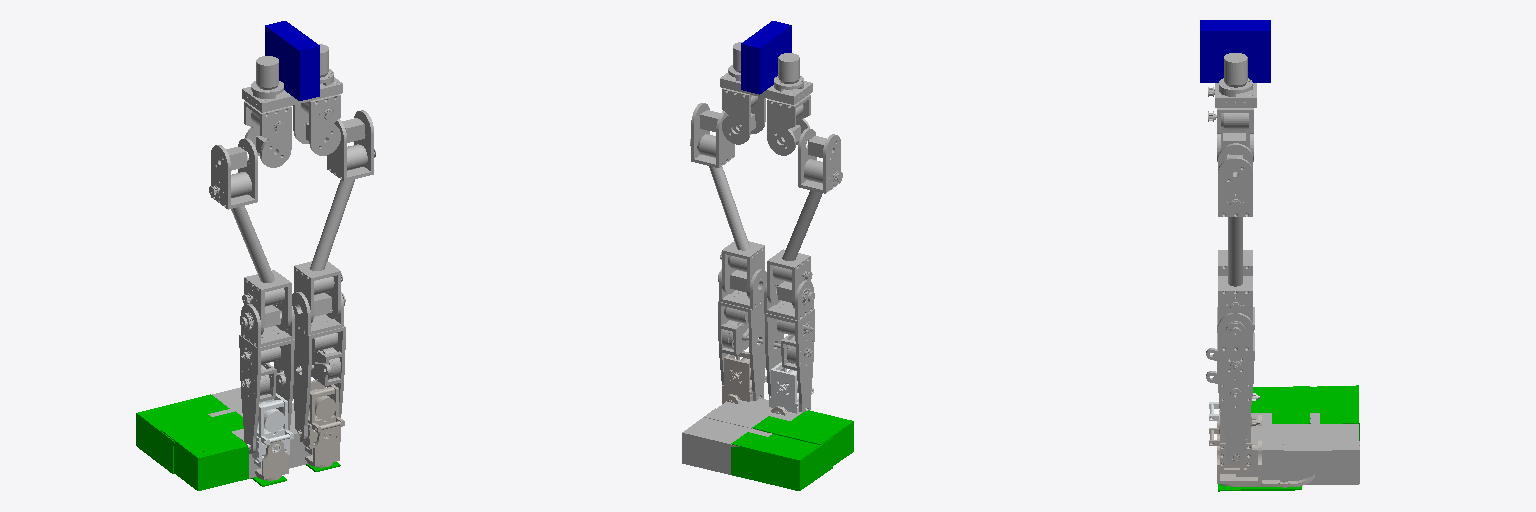
--- Facts derived from the render (not from the file) ---
Views: 3 orthographic renders of the robot side by side, from view 1: azimuth 30°, elevation 25°; view 2: azimuth 150°, elevation 25°; view 3: azimuth 270°, elevation 25°.
Robot: huron — 28 links, 27 joints (20 revolute, 7 fixed); root link base_link; default pose: every joint at zero.
Visible links, largest first — view 1: l_hip_pitch_link, r_hip_pitch_link, l_knee_pitch_link, r_knee_pitch_link, l3_foot_ft_link, battery_link, base_footprint, l_hip_yaw_link, r_hip_yaw_link, r_ankle_pitch_link, l_ankle_pitch_link, l4_foot_ft_link (+4 smaller); view 2: l_hip_pitch_link, r_hip_pitch_link, l_knee_pitch_link, r_knee_pitch_link, l1_foot_ft_link, battery_link, base_footprint, r1_foot_ft_link, l_hip_yaw_link, r_hip_yaw_link, l3_foot_ft_link, l2_foot_ft_link (+5 smaller); view 3: r_hip_pitch_link, r_knee_pitch_link, battery_link, r2_foot_ft_link, base_footprint, l3_foot_ft_link, l2_foot_ft_link, r4_foot_ft_link, r_hip_yaw_link, r3_foot_ft_link, r1_foot_ft_link, r_ankle_roll_link (+2 smaller).
Boxes of the visible links, <box> form: l_hip_pitch_link: <box>209,138,291,334</box>; r_hip_pitch_link: <box>294,110,375,322</box>; l_knee_pitch_link: <box>239,304,294,453</box>; r_knee_pitch_link: <box>292,292,345,441</box>; l3_foot_ft_link: <box>172,411,254,488</box>; battery_link: <box>265,21,319,100</box>; base_footprint: <box>242,44,342,112</box>; l_hip_yaw_link: <box>244,101,291,167</box>; r_hip_yaw_link: <box>293,94,340,155</box>; r_ankle_pitch_link: <box>297,380,344,454</box>; l_ankle_pitch_link: <box>246,393,293,467</box>; l4_foot_ft_link: <box>161,427,208,490</box>; l_hip_pitch_link: <box>767,128,842,308</box>; r_hip_pitch_link: <box>690,103,764,298</box>; l_knee_pitch_link: <box>764,280,814,412</box>; r_knee_pitch_link: <box>718,269,766,400</box>; l1_foot_ft_link: <box>741,437,832,490</box>; battery_link: <box>741,21,791,94</box>; base_footprint: <box>720,42,812,104</box>; r1_foot_ft_link: <box>692,420,771,479</box>; l_hip_yaw_link: <box>767,94,810,155</box>; r_hip_yaw_link: <box>722,88,765,144</box>; l3_foot_ft_link: <box>752,410,842,441</box>; l2_foot_ft_link: <box>731,432,810,476</box>; r_hip_pitch_link: <box>1218,143,1252,340</box>; r_knee_pitch_link: <box>1206,313,1254,465</box>; battery_link: <box>1200,20,1270,82</box>; r2_foot_ft_link: <box>1284,445,1359,484</box>; base_footprint: <box>1215,53,1256,107</box>; l3_foot_ft_link: <box>1251,391,1310,423</box>; l2_foot_ft_link: <box>1310,391,1359,440</box>; r4_foot_ft_link: <box>1251,413,1310,444</box>; r_hip_yaw_link: <box>1208,108,1253,161</box>; r3_foot_ft_link: <box>1236,444,1310,482</box>; r1_foot_ft_link: <box>1310,413,1359,445</box>; r_ankle_roll_link: <box>1217,439,1314,487</box>.
Bounding box of the posed robot: 0.5553 × 0.4218 × 1.3 m (x, y, z).
Meshes: 14 distinct files referenced, 19 mesh visuals loaded (12 binary STL); not drawn: 2 (reference not matched to a file when rendering).

robot.urdf — huron:
<?xml version="1.0" ?>
<!-- =================================================================================== -->
<!-- |    This document was autogenerated by xacro from huron.xacro                    | -->
<!-- |    EDITING THIS FILE BY HAND IS NOT RECOMMENDED                                 | -->
<!-- =================================================================================== -->
<robot name="huron">
  <material name="black">
    <color rgba="0.0 0.0 0.0 1.0"/>
  </material>
  <material name="blue">
    <color rgba="0.0 0.0 0.8 1.0"/>
  </material>
  <material name="green">
    <color rgba="0.0 0.8 0.0 1.0"/>
  </material>
  <material name="grey">
    <color rgba="0.75294 0.75294 0.75294 1"/>
  </material>
  <material name="orange">
    <color rgba="1.0 0.4235294117647059 0.0392156862745098 1.0"/>
  </material>
  <material name="brown">
    <color rgba="0.8705882352941177 0.8117647058823529 0.7647058823529411 1.0"/>
  </material>
  <material name="red">
    <color rgba="0.8 0.0 0.0 1.0"/>
  </material>
  <material name="white">
    <color rgba="1.0 1.0 1.0 1.0"/>
  </material>
  <!-- Right leg -->
  <!-- Right foot sensors -->
  <!-- ros_control plugin -->
  <gazebo>
    <plugin filename="libgazebo_ros_control.so" name="gazebo_ros_control">
      <robotNamespace>/huron</robotNamespace>
    </plugin>
  </gazebo>
  <gazebo>
    <plugin filename="libgazebo_ros_p3d.so" name="ground_truth">
      <frameName>map</frameName>
      <bodyName>base_link</bodyName>
      <topicName>/huron/odom</topicName>
      <updateRate>100.0</updateRate>
    </plugin>
  </gazebo>
  <!-- imu sensor -->
  <gazebo reference="imu_link">
    <gravity>true</gravity>
    <sensor name="imu_sensor" type="imu">
      <always_on>true</always_on>
      <update_rate>100</update_rate>
      <visualize>true</visualize>
      <topic>/huron/sensor/imu</topic>
      <plugin filename="libgazebo_ros_imu_sensor.so" name="imu_plugin">
        <topicName>huron/sensor/imu</topicName>
        <bodyName>imu_link</bodyName>
        <updateRateHZ>10.0</updateRateHZ>
        <gaussianNoise>0.0</gaussianNoise>
        <xyzOffset>0 0 0</xyzOffset>
        <rpyOffset>0 0 0</rpyOffset>
        <frameName>imu_link</frameName>
      </plugin>
      <pose>0 0 0 0 0 0</pose>
    </sensor>
  </gazebo>
  <gazebo reference="r1_ft_fixed">
    <provideFeedback>true</provideFeedback>
  </gazebo>
  <gazebo>
    <plugin filename="libgazebo_ros_ft_sensor.so" name="r1_ft_sensor">
      <updateRate>100.0</updateRate>
      <topicName>/huron/sensor/r1_ft_sensor</topicName>
      <jointName>r1_ft_fixed</jointName>
      <gaussianNoise>0.0</gaussianNoise>
    </plugin>
  </gazebo>
  <gazebo reference="r2_ft_fixed">
    <provideFeedback>true</provideFeedback>
  </gazebo>
  <gazebo>
    <plugin filename="libgazebo_ros_ft_sensor.so" name="r2_ft_sensor">
      <updateRate>100.0</updateRate>
      <topicName>/huron/sensor/r2_ft_sensor</topicName>
      <jointName>r2_ft_fixed</jointName>
      <gaussianNoise>0.0</gaussianNoise>
    </plugin>
  </gazebo>
  <gazebo reference="r3_ft_fixed">
    <provideFeedback>true</provideFeedback>
  </gazebo>
  <gazebo>
    <plugin filename="libgazebo_ros_ft_sensor.so" name="r3_ft_sensor">
      <updateRate>100.0</updateRate>
      <topicName>/huron/sensor/r3_ft_sensor</topicName>
      <jointName>r3_ft_fixed</jointName>
      <gaussianNoise>0.0</gaussianNoise>
    </plugin>
  </gazebo>
  <gazebo reference="r4_ft_fixed">
    <provideFeedback>true</provideFeedback>
  </gazebo>
  <gazebo>
    <plugin filename="libgazebo_ros_ft_sensor.so" name="r4_ft_sensor">
      <updateRate>100.0</updateRate>
      <topicName>/huron/sensor/r4_ft_sensor</topicName>
      <jointName>r4_ft_fixed</jointName>
      <gaussianNoise>0.0</gaussianNoise>
    </plugin>
  </gazebo>
  <gazebo reference="l1_ft_fixed">
    <provideFeedback>true</provideFeedback>
  </gazebo>
  <gazebo>
    <plugin filename="libgazebo_ros_ft_sensor.so" name="l1_ft_sensor">
      <updateRate>100.0</updateRate>
      <topicName>/huron/sensor/l1_ft_sensor</topicName>
      <jointName>l1_ft_fixed</jointName>
      <gaussianNoise>0.0</gaussianNoise>
    </plugin>
  </gazebo>
  <gazebo reference="l2_ft_fixed">
    <provideFeedback>true</provideFeedback>
  </gazebo>
  <gazebo>
    <plugin filename="libgazebo_ros_ft_sensor.so" name="l2_ft_sensor">
      <updateRate>100.0</updateRate>
      <topicName>/huron/sensor/l2_ft_sensor</topicName>
      <jointName>l2_ft_fixed</jointName>
      <gaussianNoise>0.0</gaussianNoise>
    </plugin>
  </gazebo>
  <gazebo reference="l3_ft_fixed">
    <provideFeedback>true</provideFeedback>
  </gazebo>
  <gazebo>
    <plugin filename="libgazebo_ros_ft_sensor.so" name="l3_ft_sensor">
      <updateRate>100.0</updateRate>
      <topicName>/huron/sensor/l3_ft_sensor</topicName>
      <jointName>l3_ft_fixed</jointName>
      <gaussianNoise>0.0</gaussianNoise>
    </plugin>
  </gazebo>
  <gazebo reference="l4_ft_fixed">
    <provideFeedback>true</provideFeedback>
  </gazebo>
  <gazebo>
    <plugin filename="libgazebo_ros_ft_sensor.so" name="r4_ft_sensor">
      <updateRate>100.0</updateRate>
      <topicName>/huron/sensor/l4_ft_sensor</topicName>
      <jointName>l4_ft_fixed</jointName>
      <gaussianNoise>0.0</gaussianNoise>
    </plugin>
  </gazebo>
  <!-- World -->
  <gazebo reference="world"/>
  <!-- Map -->
  <gazebo reference="map"/>
  <!-- Base -->
  <gazebo reference="base_link"/>
  <!-- IMU -->
  <gazebo reference="imu_link"/>
  <!-- Body-->
  <gazebo reference="base_footprint">
    <mu1>0.2</mu1>
    <mu2>0.2</mu2>
    <material>Gazebo/Grey</material>
    <selfCollide>true</selfCollide>
  </gazebo>
  <!-- Battery -->
  <gazebo reference="battery_link">
    <material>Gazebo/SkyBlue</material>
    <selfCollide>true</selfCollide>
  </gazebo>
  <!-- Left Leg -->
  <gazebo reference="l_hip_yaw_link">
    <mu1>0.2</mu1>
    <mu2>0.2</mu2>
    <material>Gazebo/Grey</material>
    <selfCollide>true</selfCollide>
  </gazebo>
  <gazebo reference="l_hip_roll_link">
    <mu1>0.2</mu1>
    <mu2>0.2</mu2>
    <material>Gazebo/Grey</material>
    <selfCollide>true</selfCollide>
  </gazebo>
  <gazebo reference="l_hip_pitch_link">
    <mu1>0.2</mu1>
    <mu2>0.2</mu2>
    <material>Gazebo/Grey</material>
    <selfCollide>true</selfCollide>
  </gazebo>
  <gazebo reference="l_knee_pitch_link">
    <mu1>0.2</mu1>
    <mu2>0.2</mu2>
    <material>Gazebo/Grey</material>
    <selfCollide>true</selfCollide>
  </gazebo>
  <gazebo reference="l_ankle_pitch_link">
    <mu1>0.2</mu1>
    <mu2>0.2</mu2>
    <material>Gazebo/Grey</material>
    <selfCollide>true</selfCollide>
  </gazebo>
  <gazebo reference="l_ankle_roll_link">
    <kp>100000.0</kp>
    <kd>100.0</kd>
    <mu1>0.9</mu1>
    <mu2>0.9</mu2>
    <!--<maxContacts>30</maxContacts>-->
    <fdir1>1 0 0</fdir1>
    <maxVel>1.0</maxVel>
    <minDepth>0.001</minDepth>
    <material>Gazebo/Blue</material>
  </gazebo>
  <gazebo reference="l1_foot_ft_link">
    <kp>100000.0</kp>
    <kd>100.0</kd>
    <mu1>0.9</mu1>
    <mu2>0.9</mu2>
    <!--<maxContacts>30</maxContacts>-->
    <!-- <fdir1>1 0 0</fdir1> -->
    <maxVel>1.0</maxVel>
    <minDepth>0.0001</minDepth>
    <material>Gazebo/Orange</material>
  </gazebo>
  <gazebo reference="l2_foot_ft_link">
    <kp>100000.0</kp>
    <kd>100.0</kd>
    <mu1>0.9</mu1>
    <mu2>0.9</mu2>
    <!--<maxContacts>30</maxContacts>-->
    <!-- <fdir1>1 0 0</fdir1> -->
    <maxVel>1.0</maxVel>
    <minDepth>0.0001</minDepth>
    <material>Gazebo/Orange</material>
  </gazebo>
  <gazebo reference="l3_foot_ft_link">
    <kp>100000.0</kp>
    <kd>100.0</kd>
    <mu1>0.9</mu1>
    <mu2>0.9</mu2>
    <!--<maxContacts>30</maxContacts>-->
    <!-- <fdir1>1 0 0</fdir1> -->
    <maxVel>1.0</maxVel>
    <minDepth>0.0001</minDepth>
    <material>Gazebo/Orange</material>
  </gazebo>
  <gazebo reference="l4_foot_ft_link">
    <kp>100000.0</kp>
    <kd>100.0</kd>
    <mu1>0.9</mu1>
    <mu2>0.9</mu2>
    <!--<maxContacts>30</maxContacts>-->
    <!-- <fdir1>1 0 0</fdir1> -->
    <maxVel>1.0</maxVel>
    <minDepth>0.0001</minDepth>
    <material>Gazebo/Orange</material>
  </gazebo>
  <!-- Right Leg -->
  <gazebo reference="r_hip_yaw_link">
    <mu1>0.2</mu1>
    <mu2>0.2</mu2>
    <material>Gazebo/Grey</material>
    <selfCollide>true</selfCollide>
  </gazebo>
  <gazebo reference="r_hip_roll_link">
    <mu1>0.2</mu1>
    <mu2>0.2</mu2>
    <material>Gazebo/Grey</material>
    <selfCollide>true</selfCollide>
  </gazebo>
  <gazebo reference="r_hip_pitch_link">
    <mu1>0.2</mu1>
    <mu2>0.2</mu2>
    <material>Gazebo/Grey</material>
    <selfCollide>true</selfCollide>
  </gazebo>
  <gazebo reference="r_knee_pitch_link">
    <mu1>0.2</mu1>
    <mu2>0.2</mu2>
    <material>Gazebo/Grey</material>
    <selfCollide>true</selfCollide>
  </gazebo>
  <gazebo reference="r_ankle_pitch_link">
    <mu1>0.2</mu1>
    <mu2>0.2</mu2>
    <material>Gazebo/Grey</material>
    <selfCollide>true</selfCollide>
  </gazebo>
  <gazebo reference="r_ankle_roll_link">
    <kp>100000.0</kp>
    <kd>100.0</kd>
    <mu1>0.9</mu1>
    <mu2>0.9</mu2>
    <!--<maxContacts>30</maxContacts>-->
    <fdir1>1 0 0</fdir1>
    <maxVel>1.0</maxVel>
    <minDepth>0.0001</minDepth>
    <material>Gazebo/Blue</material>
  </gazebo>
  <gazebo reference="r1_foot_ft_link">
    <kp>100000.0</kp>
    <kd>100.0</kd>
    <mu1>0.9</mu1>
    <mu2>0.9</mu2>
    <!--<maxContacts>30</maxContacts>-->
    <!-- <fdir1>1 0 0</fdir1> -->
    <maxVel>1.0</maxVel>
    <minDepth>0.0001</minDepth>
    <material>Gazebo/Orange</material>
  </gazebo>
  <gazebo reference="r2_foot_ft_link">
    <kp>100000.0</kp>
    <kd>100.0</kd>
    <mu1>0.9</mu1>
    <mu2>0.9</mu2>
    <!--<maxContacts>30</maxContacts>-->
    <!-- <fdir1>1 0 0</fdir1> -->
    <maxVel>1.0</maxVel>
    <minDepth>0.0001</minDepth>
    <material>Gazebo/Orange</material>
  </gazebo>
  <gazebo reference="r3_foot_ft_link">
    <kp>100000.0</kp>
    <kd>100.0</kd>
    <mu1>0.9</mu1>
    <mu2>0.9</mu2>
    <!--<maxContacts>30</maxContacts>-->
    <!-- <fdir1>1 0 0</fdir1> -->
    <maxVel>1.0</maxVel>
    <minDepth>0.0001</minDepth>
    <material>Gazebo/Orange</material>
  </gazebo>
  <gazebo reference="r4_foot_ft_link">
    <kp>100000.0</kp>
    <kd>100.0</kd>
    <mu1>0.9</mu1>
    <mu2>0.9</mu2>
    <!--<maxContacts>30</maxContacts>-->
    <!-- <fdir1>1 0 0</fdir1> -->
    <maxVel>1.0</maxVel>
    <minDepth>0.0001</minDepth>
    <material>Gazebo/Orange</material>
  </gazebo>
  <!-- Used for fixing robot -->
  <!--<link name="world"></link> 
    <joint name="world_fixed" type="fixed">
        <origin xyz="0 0 0.764" rpy="0 0 0"/>
        <parent link="world"/>
        <child link="base_link"/>
    </joint> -->
  <link name="base_link"/>
  <joint name="base_fixed" type="fixed">
    <origin rpy="0 0 0" xyz="0 0 0"/>
    <parent link="base_link"/>
    <child link="base_footprint"/>
  </joint>
  <!-- base_link -->
  <link name="base_footprint">
    <visual>
      <origin rpy="0 0 0" xyz="0 0 0"/>
      <geometry>
        <mesh filename="package://huron_description/meshes/base_link.STL" scale="1 1 1"/>
      </geometry>
      <material name="grey"/>
    </visual>
    <collision>
      <origin rpy="0 0 0" xyz="0 0 0"/>
      <geometry>
        <mesh filename="package://huron_description/meshes/base_link.STL" scale="1 1 1"/>
      </geometry>
      <material name="grey"/>
    </collision>
    <inertial>
      <origin rpy="0 0 0" xyz="4.7319E-09 5.4338E-07 0.026975"/>
      <mass value="3.4072"/>
      <inertia ixx="0.00319" ixy="7.149E-11" ixz="6.0313E-11" iyy="0.010531" iyz="6.926E-09" izz="0.012315"/>
    </inertial>
  </link>
  <!-- Battery -->
  <link name="battery_link">
    <visual>
      <origin rpy="0 0 0" xyz="0 0 0"/>
      <geometry>
        <box size="0.065 0.188 0.151"/>
      </geometry>
      <material name="blue"/>
    </visual>
    <collision>
      <origin rpy="0 0 0" xyz="0 0 0"/>
      <geometry>
        <box size="0.065 0.188 0.151"/>
      </geometry>
      <material name="blue"/>
    </collision>
    <inertial>
      <origin rpy="0 0 0" xyz="0 0 0"/>
      <mass value="3.90089"/>
      <inertia ixx="0.01890143742" ixy="0" ixz="0" iyy="0.0128628597" iyz="0" izz="0.008785454428"/>
    </inertial>
  </link>
  <joint name="battery_fixed" type="fixed">
    <origin rpy="0 0 0" xyz="0 0 0.0895"/>
    <parent link="base_footprint"/>
    <child link="battery_link"/>
  </joint>
  <!-- imu joint -->
  <joint name="imu_fixed" type="fixed">
    <origin rpy="0 0 0" xyz="0 0 0"/>
    <parent link="base_footprint"/>
    <child link="imu_link"/>
  </joint>
  <link name="imu_link"/>
  <!-- right hip yaw joint -->
  <joint name="r_hip_yaw_joint" type="revolute">
    <origin rpy="0 0 3.141592654" xyz="0.0774999999999944 0 -0.1451242"/>
    <parent link="base_footprint"/>
    <child link="r_hip_yaw_link"/>
    <axis xyz="0 0 1"/>
    <limit effort="1000" lower="-3.1416" upper="3.1416" velocity="3"/>
    <dynamics damping="0.5" friction="5"/>
  </joint>
  <transmission name="r_hip_yaw_joint_tran">
    <type>transmission_interface/SimpleTransmission</type>
    <joint name="r_hip_yaw_joint">
      <hardwareInterface>hardware_interface/EffortJointInterface</hardwareInterface>
    </joint>
    <actuator name="r_hip_yaw_joint_motor">
      <hardwareInterface>EffortJointInterface</hardwareInterface>
      <mechanicalReduction>1</mechanicalReduction>
    </actuator>
  </transmission>
  <!-- right hip yaw link -->
  <link name="r_hip_yaw_link">
    <visual>
      <origin rpy="0 0 0" xyz="0 0 0"/>
      <geometry>
        <mesh filename="package://huron_description/meshes/r_hip_yaw_link.STL" scale="1 1 1"/>
      </geometry>
      <material name="grey"/>
    </visual>
    <collision>
      <origin rpy="0 0 0" xyz="0 0 0"/>
      <geometry>
        <mesh filename="package://huron_description/meshes/r_hip_yaw_link.STL" scale="1 1 1"/>
      </geometry>
      <material name="grey"/>
    </collision>
    <inertial>
      <origin rpy="0 0 0" xyz="0.0006244 0.00052023 0.063505"/>
      <mass value="1.6968"/>
      <inertia ixx="0.0022729" ixy="-5.6517E-10" ixz="6.6464E-06" iyy="0.0026746" iyz="5.6889E-09" izz="0.0012354"/>
    </inertial>
  </link>
  <!-- right hip roll joint-->
  <joint name="r_hip_roll_joint" type="revolute">
    <origin rpy="1.570796327 0 0" xyz="0 0 0"/>
    <parent link="r_hip_yaw_link"/>
    <child link="r_hip_roll_link"/>
    <axis xyz="0 0 1"/>
    <limit effort="1000" lower="-0.5236" upper="0.01" velocity="3"/>
    <dynamics damping="0.5" friction="5"/>
  </joint>
  <transmission name="r_hip_roll_joint_tran">
    <type>transmission_interface/SimpleTransmission</type>
    <joint name="r_hip_roll_joint">
      <hardwareInterface>hardware_interface/EffortJointInterface</hardwareInterface>
    </joint>
    <actuator name="r_hip_roll_joint_motor">
      <hardwareInterface>EffortJointInterface</hardwareInterface>
      <mechanicalReduction>1</mechanicalReduction>
    </actuator>
  </transmission>
  <!-- right hip roll link -->
  <link name="r_hip_roll_link">
    <visual>
      <origin rpy="0 0 0" xyz="0 0 0"/>
      <geometry>
        <mesh filename="package://huron_description/meshes/r_hip_roll_link.STL" scale="1 1 1"/>
      </geometry>
      <material name="grey"/>
    </visual>
    <collision>
      <origin rpy="0 0 0" xyz="0 0 0"/>
      <geometry>
        <mesh filename="package://huron_description/meshes/r_hip_roll_link.STL" scale="1 1 1"/>
      </geometry>
      <material name="grey"/>
    </collision>
    <inertial>
      <origin rpy="0 0 0" xyz="-0.07196 0.0061152 -0.00052563"/>
      <mass value="1.1884"/>
      <inertia ixx="0.00098222" ixy="9.8947E-08" ixz="9.2484E-09" iyy="0.00097045" iyz="9.7414E-08" izz="0.00092365"/>
    </inertial>
  </link>
  <!-- right hip pitch joint -->
  <joint name="r_hip_pitch_joint" type="revolute">
    <origin rpy="-1.570796327 0 -1.570796327" xyz="0 0 0"/>
    <parent link="r_hip_roll_link"/>
    <child link="r_hip_pitch_link"/>
    <axis xyz="0 0 1"/>
    <limit effort="1000" lower="-1.2217" upper="1.2217" velocity="3"/>
    <dynamics damping="0.5" friction="5"/>
  </joint>
  <transmission name="r_hip_pitch_joint_tran">
    <type>transmission_interface/SimpleTransmission</type>
    <joint name="r_hip_pitch_joint">
      <hardwareInterface>hardware_interface/EffortJointInterface</hardwareInterface>
    </joint>
    <actuator name="r_hip_pitch_joint_motor">
      <hardwareInterface>EffortJointInterface</hardwareInterface>
      <mechanicalReduction>1</mechanicalReduction>
    </actuator>
  </transmission>
  <!-- right hip pitch link -->
  <link name="r_hip_pitch_link">
    <visual>
      <origin rpy="0 0 0" xyz="0 0 0"/>
      <geometry>
        <mesh filename="package://huron_description/meshes/r_hip_pitch_link.STL" scale="1 1 1"/>
      </geometry>
      <material name="grey"/>
    </visual>
    <collision>
      <origin rpy="0 0 0" xyz="0 0 0"/>
      <geometry>
        <mesh filename="package://huron_description/meshes/r_hip_pitch_link.STL" scale="1 1 1"/>
      </geometry>
      <material name="grey"/>
    </collision>
    <inertial>
      <origin rpy="0 0 0" xyz="0.26753 4.9957E-05 -0.053132"/>
      <mass value="4.2544"/>
      <inertia ixx="0.0034501" ixy="-2.7593E-09" ixz="-0.0019797" iyy="0.010035" iyz="2.5351E-10" izz="0.01009"/>
    </inertial>
  </link>
  <!-- right knee pitch joint -->
  <joint name="r_knee_pitch_joint" type="revolute">
    <origin rpy="0 0 0" xyz="0.512778478308813 4.99999999867273E-05 -1.66647320091612E-05"/>
    <parent link="r_hip_pitch_link"/>
    <child link="r_knee_pitch_link"/>
    <axis xyz="0 0 1"/>
    <limit effort="1000" lower="-1.570796327" upper="1.570796327" velocity="3"/>
    <dynamics damping="0.5" friction="5"/>
  </joint>
  <transmission name="r_knee_pitch_joint_tran">
    <type>transmission_interface/SimpleTransmission</type>
    <joint name="r_knee_pitch_joint">
      <hardwareInterface>hardware_interface/EffortJointInterface</hardwareInterface>
    </joint>
    <actuator name="r_knee_pitch_joint_motor">
      <hardwareInterface>EffortJointInterface</hardwareInterface>
      <mechanicalReduction>1</mechanicalReduction>
    </actuator>
  </transmission>
  <!-- right knee pitch link -->
  <link name="r_knee_pitch_link">
    <visual>
      <origin rpy="0 0 0" xyz="0 0 0"/>
      <geometry>
        <mesh filename="package://huron_description/meshes/r_knee_pitch_link.STL" scale="1 1 1"/>
      </geometry>
      <material name="grey"/>
    </visual>
    <collision>
      <origin rpy="0 0 0" xyz="0 0 0"/>
      <geometry>
        <mesh filename="package://huron_description/meshes/r_knee_pitch_link.STL" scale="1 1 1"/>
      </geometry>
      <material name="grey"/>
    </collision>
    <inertial>
      <origin rpy="0 0 0" xyz="0.13396 0.00063335 -0.00486"/>
      <mass value="3.4875"/>
      <inertia ixx="0.0064812" ixy="1.2949E-05" ixz="2.8064E-05" iyy="0.019762" iyz="-1.0389E-05" izz="0.017354"/>
    </inertial>
  </link>
  <!-- right ankle pitch joint -->
  <joint name="r_ankle_pitch_joint" type="revolute">
    <origin rpy="0 0 0.0" xyz="0.370000000000006 -3.16358749707368E-05 -0.00249999999999943"/>
    <parent link="r_knee_pitch_link"/>
    <child link="r_ankle_pitch_link"/>
    <axis xyz="0 0 1"/>
    <limit effort="1000" lower="-0.5236" upper="0.1745" velocity="3"/>
    <dynamics damping="0.5" friction="2.0"/>
  </joint>
  <transmission name="r_ankle_pitch_joint_tran">
    <type>transmission_interface/SimpleTransmission</type>
    <joint name="r_ankle_pitch_joint">
      <hardwareInterface>hardware_interface/EffortJointInterface</hardwareInterface>
    </joint>
    <actuator name="r_ankle_pitch_joint_motor">
      <hardwareInterface>EffortJointInterface</hardwareInterface>
      <mechanicalReduction>1</mechanicalReduction>
    </actuator>
  </transmission>
  <!-- right ankle pitch link -->
  <link name="r_ankle_pitch_link">
    <visual>
      <origin rpy="0 0 0" xyz="0 0 0"/>
      <geometry>
        <mesh filename="package://huron_description/meshes/r_ankle_pitch_link.STL" scale="1 1 1"/>
      </geometry>
      <material name="">
        <color rgba="0.77647 0.75686 0.73725 1"/>
      </material>
    </visual>
    <collision>
      <origin rpy="0 0 0" xyz="0 0 0"/>
      <geometry>
        <mesh filename="package://huron_description/meshes/r_ankle_pitch_link.STL" scale="1 1 1"/>
      </geometry>
      <material name="">
        <color rgba="0.77647 0.75686 0.73725 1"/>
      </material>
    </collision>
    <inertial>
      <origin rpy="0 0 0" xyz="-0.029867 0.001045 0.000556"/>
      <mass value="2.4242"/>
      <inertia ixx="0.0025143" ixy="-0.00025651" ixz="1.5321E-12" iyy="0.0045125" iyz="9.9589E-10" izz="0.0049235"/>
    </inertial>
  </link>
  <!-- right ankle roll joint -->
  <joint name="r_ankle_roll_joint" type="revolute">
    <origin rpy="1.570796327 0 0" xyz="0 0 0"/>
    <parent link="r_ankle_pitch_link"/>
    <child link="r_ankle_roll_link"/>
    <axis xyz="0 0 1"/>
    <limit effort="1000" lower="-0.3491" upper="0.3491" velocity="3"/>
    <dynamics damping="0.5" friction="2.0"/>
  </joint>
  <transmission name="r_ankle_roll_joint_tran">
    <type>transmission_interface/SimpleTransmission</type>
    <joint name="r_ankle_roll_joint">
      <hardwareInterface>hardware_interface/EffortJointInterface</hardwareInterface>
    </joint>
    <actuator name="r_ankle_roll_joint_motor">
      <hardwareInterface>EffortJointInterface</hardwareInterface>
      <mechanicalReduction>1</mechanicalReduction>
    </actuator>
  </transmission>
  <!-- right ankle roll link -->
  <link name="r_ankle_roll_link">
    <visual>
      <origin rpy="0 0 0" xyz="0 0 0"/>
      <geometry>
        <mesh filename="package://huron_description/meshes/r_ankle_roll_link.STL" scale="1 1 1"/>
      </geometry>
      <material name="">
        <color rgba="0.77647 0.75686 0.73725 1"/>
      </material>
    </visual>
    <collision>
      <origin rpy="0 0 0" xyz="0 0 0"/>
      <geometry>
        <mesh filename="package://huron_description/meshes/r_ankle_roll_link.STL" scale="1 1 1"/>
      </geometry>
      <material name="">
        <color rgba="0.77647 0.75686 0.73725 1"/>
      </material>
    </collision>
    <inertial>
      <origin rpy="0 0 0" xyz="0.073422 7.2094E-05 0.063933"/>
      <mass value="1.8533"/>
      <inertia ixx="0.0086813" ixy="1.0356E-05" ixz="0.00024346" iyy="0.0084051" iyz="-0.00012301" izz="0.0013018"/>
    </inertial>
  </link>
  <!-- right ft fixed joint 1 -->
  <joint name="r1_ft_fixed" type="revolute">
    <origin rpy="-0.0095317 0.011124 1.5707" xyz="0.098271 0.014348 0.12788"/>
    <axis xyz="0 0 1"/>
    <parent link="r_ankle_roll_link"/>
    <child link="r1_foot_ft_link"/>
    <limit effort="100" lower="0" upper="0" velocity="100"/>
  </joint>
  <!-- right foot ft link 1 -->
  <link name="r1_foot_ft_link">
    <visual>
      <origin rpy=" 0 0 0" xyz="0 0 0"/>
      <geometry>
        <mesh filename="package://huron_description/meshes/r_foot_ft.STL" scale="1 1 1"/>
      </geometry>
      <material name="grey"/>
    </visual>
    <collision>
      <origin rpy=" 0 0 0" xyz="0 0 0"/>
      <geometry>
        <mesh filename="package://huron_description/meshes/r_foot_ft.STL" scale="1 1 1"/>
      </geometry>
      <material name="grey"/>
    </collision>
    <inertial>
      <origin rpy="0 0 0" xyz="-8.7899E-06 0.0048383 -9.7784E-08"/>
      <mass value="0.0086322"/>
      <inertia ixx="3.8994E-07" ixy="-3.4931E-10" ixz="5.2655E-10" iyy="5.8221E-07" iyz="-3.8859E-12" izz="3.4261E-07"/>
    </inertial>
  </link>
  <!-- right ft fixed joint 2 -->
  <joint name="r2_ft_fixed" type="revolute">
    <origin rpy="-0.0095317 0.011124 1.5707" xyz="0.098334 -0.020652 0.12788"/>
    <axis xyz="0 0 1"/>
    <parent link="r_ankle_roll_link"/>
    <child link="r2_foot_ft_link"/>
    <limit effort="100" lower="0" upper="0" velocity="100"/>
  </joint>
  <!-- right foot ft link 2 -->
  <link name="r2_foot_ft_link">
    <visual>
      <origin rpy=" 0 0 0" xyz="0 0 0"/>
      <geometry>
        <mesh filename="package://huron_description/meshes/r_foot_ft.STL" scale="1 1 1"/>
      </geometry>
      <material name="grey"/>
    </visual>
    <collision>
      <origin rpy=" 0 0 0" xyz="0 0 0"/>
      <geometry>
        <mesh filename="package://huron_description/meshes/r_foot_ft.STL" scale="1 1 1"/>
      </geometry>
      <material name="grey"/>
    </collision>
    <inertial>
      <origin rpy="0 0 0" xyz="-8.78991381628169E-06 0.00483832326857458 -9.77840948768183E-08"/>
      <mass value="0.00863223621815318"/>
      <inertia ixx="3.89936544476746E-07" ixy="-3.49305164752985E-10" ixz="5.26550951245735E-10" iyy="5.82213425821568E-07" iyz="-3.88587306925662E-12" izz="3.42610190440137E-07"/>
    </inertial>
  </link>
  <!-- right ft fixed joint 3 -->
  <joint name="r3_ft_fixed" type="revolute">
    <origin rpy="-0.0095317 0.011124 1.5707" xyz="0.098328 -0.01683 0"/>
    <axis xyz="0 0 1"/>
    <parent link="r_ankle_roll_link"/>
    <child link="r3_foot_ft_link"/>
    <limit effort="100" lower="0" upper="0" velocity="100"/>
  </joint>
  <!-- right foot ft link 3 -->
  <link name="r3_foot_ft_link">
    <visual>
      <origin rpy=" 0 0 0" xyz="0 0 0"/>
      <geometry>
        <mesh filename="package://huron_description/meshes/r_foot_ft.STL" scale="1 1 1"/>
      </geometry>
      <material name="grey"/>
    </visual>
    <collision>
      <origin rpy=" 0 0 0" xyz="0 0 0"/>
      <geometry>
        <mesh filename="package://huron_description/meshes/r_foot_ft.STL" scale="1 1 1"/>
      </geometry>
      <material name="grey"/>
    </collision>
    <inertial>
      <origin rpy="0 0 0" xyz="-8.78991381587924E-06 0.00483832326857436 -9.7784095154374E-08"/>
      <mass value="0.00863223621815318"/>
      <inertia ixx="3.89936544476746E-07" ixy="-3.49305164752997E-10" ixz="5.26550951245753E-10" iyy="5.82213425821568E-07" iyz="-3.88587306930208E-12" izz="3.42610190440137E-07"/>
    </inertial>
  </link>
  <!-- right ft fixed joint 4 -->
  <joint name="r4_ft_fixed" type="revolute">
    <origin rpy="-0.0095317 0.011124 1.5707" xyz="0.098267 0.016679 0"/>
    <axis xyz="0 0 1"/>
    <parent link="r_ankle_roll_link"/>
    <child link="r4_foot_ft_link"/>
    <limit effort="100" lower="0" upper="0" velocity="100"/>
  </joint>
  <!-- right4 foot ft link 4 -->
  <link name="r4_foot_ft_link">
    <visual>
      <origin rpy=" 0 0 0" xyz="0 0 0"/>
      <geometry>
        <mesh filename="package://huron_description/meshes/r_foot_ft.STL" scale="1 1 1"/>
      </geometry>
      <material name="grey"/>
    </visual>
    <collision>
      <origin rpy=" 0 0 0" xyz="0 0 0"/>
      <geometry>
        <mesh filename="package://huron_description/meshes/r_foot_ft.STL" scale="1 1 1"/>
      </geometry>
      <material name="grey"/>
    </collision>
    <inertial>
      <origin rpy="0 0 0" xyz="-8.78991381597638E-06 0.00483832326857403 -9.7784095154374E-08"/>
      <mass value="0.00863223621815318"/>
      <inertia ixx="3.89936544476746E-07" ixy="-3.49305164753006E-10" ixz="5.26550951245779E-10" iyy="5.82213425821568E-07" iyz="-3.88587306929652E-12" izz="3.42610190440137E-07"/>
    </inertial>
  </link>
  <!-- right ft fixed joint -->
  <joint name="rv_ft_fixed" type="fixed">
    <origin rpy="0 0 0" xyz="0.0 0.0 0.0"/>
    <axis xyz="0 0 0"/>
    <parent link="r4_foot_ft_link"/>
    <child link="r_foot_v_ft_link"/>
    <limit effort="100" lower="0" upper="0" velocity="100"/>
  </joint>
  <!-- right foot ft link -->
  <link name="r_foot_v_ft_link"/>
  <!-- Foot base -->
  <link name="r_foot_base_link">
    <visual>
      <origin rpy="0 0 0" xyz="0 0 0"/>
      <geometry>
        <box size="0.078 0.005 0.221"/>
      </geometry>
      <material name="green"/>
    </visual>
    <collision>
      <origin rpy="0 0 0" xyz="0 0 0"/>
      <geometry>
        <box size="0.078 0.005 0.221"/>
      </geometry>
      <material name="green"/>
    </collision>
    <inertial>
      <origin rpy="0 0 0" xyz="0 0 0"/>
      <mass value="0.01"/>
      <inertia ixx="2.162166667E-05" ixy="0" ixz="0" iyy="2.545416667E-05" iyz="0" izz="3.874166667E-06"/>
    </inertial>
  </link>
  <joint name="r_foot_base_fixed" type="fixed">
    <origin rpy="0 0 0" xyz="-0.0175 -0.0025 -0.06395"/>
    <parent link="r1_foot_ft_link"/>
    <child link="r_foot_base_link"/>
  </joint>
  <!-- left hip yaw joint -->
  <joint name="l_hip_yaw_joint" type="revolute">
    <origin rpy="0 0 -0.0" xyz="-0.0775 0 -0.14512"/>
    <parent link="base_footprint"/>
    <child link="l_hip_yaw_link"/>
    <axis xyz="0 0 1"/>
    <limit effort="1000" lower="-3.1416" upper="3.1416" velocity="3"/>
    <dynamics damping="0.5" friction="5"/>
  </joint>
  <transmission name="l_hip_yaw_joint_tran">
    <type>transmission_interface/SimpleTransmission</type>
    <joint name="l_hip_yaw_joint">
      <hardwareInterface>hardware_interface/EffortJointInterface</hardwareInterface>
    </joint>
    <actuator name="l_hip_yaw_joint_motor">
      <hardwareInterface>EffortJointInterface</hardwareInterface>
      <mechanicalReduction>1</mechanicalReduction>
    </actuator>
  </transmission>
  <!-- left hip yaw link -->
  <link name="l_hip_yaw_link">
    <visual>
      <origin rpy="0 0 0" xyz="0 0 0"/>
      <geometry>
        <mesh filename="package://huron_description/meshes/l_hip_yaw_link.STL" scale="1 1 1"/>
      </geometry>
      <material name="grey"/>
    </visual>
    <collision>
      <origin rpy="0 0 0" xyz="0 0 0"/>
      <geometry>
        <mesh filename="package://huron_description/meshes/l_hip_yaw_link.STL" scale="1 1 1"/>
      </geometry>
      <material name="grey"/>
    </collision>
    <inertial>
      <origin rpy="0 0 0" xyz="0.00063365 -0.00053469 0.063496"/>
      <mass value="1.6968"/>
      <inertia ixx="0.0022702" ixy="-2.5061E-10" ixz="6.6464E-06" iyy="0.0026746" iyz="-5.1468E-09" izz="0.001238"/>
    </inertial>
  </link>
  <!-- left hip roll joint-->
  <joint name="l_hip_roll_joint" type="revolute">
    <origin rpy="1.570796327 0 3.141592654" xyz="0 0 0"/>
    <parent link="l_hip_yaw_link"/>
    <child link="l_hip_roll_link"/>
    <axis xyz="0 0 1"/>
    <limit effort="1000" lower="-0.01" upper="0.5236" velocity="3"/>
    <dynamics damping="0.5" friction="5"/>
  </joint>
  <transmission name="l_hip_roll_joint_tran">
    <type>transmission_interface/SimpleTransmission</type>
    <joint name="l_hip_roll_joint">
      <hardwareInterface>hardware_interface/EffortJointInterface</hardwareInterface>
    </joint>
    <actuator name="l_hip_roll_joint_motor">
      <hardwareInterface>EffortJointInterface</hardwareInterface>
      <mechanicalReduction>1</mechanicalReduction>
    </actuator>
  </transmission>
  <!-- left hip roll link -->
  <link name="l_hip_roll_link">
    <visual>
      <origin rpy="0 0 0" xyz="0 0 0"/>
      <geometry>
        <mesh filename="package://huron_description/meshes/l_hip_roll_link.STL" scale="1 1 1"/>
      </geometry>
      <material name="grey"/>
    </visual>
    <collision>
      <origin rpy="0 0 0" xyz="0 0 0"/>
      <geometry>
        <mesh filename="package://huron_description/meshes/l_hip_roll_link.STL" scale="1 1 1"/>
      </geometry>
      <material name="grey"/>
    </collision>
    <inertial>
      <origin rpy="0 0 0" xyz="0.07196 0.0061153 -0.0005211"/>
      <mass value="1.1884"/>
      <inertia ixx="0.00098222" ixy="-9.9265E-08" ixz="4.9766E-09" iyy="0.00097045" iyz="-9.7282E-08" izz="0.00092365"/>
    </inertial>
  </link>
  <!-- left hip pitch joint -->
  <joint name="l_hip_pitch_joint" type="revolute">
    <origin rpy="-1.570796327 0 -1.570796327" xyz="0 0 0"/>
    <parent link="l_hip_roll_link"/>
    <child link="l_hip_pitch_link"/>
    <axis xyz="0 0 1"/>
    <limit effort="1000" lower="-1.2217" upper="1.2217" velocity="3"/>
    <dynamics damping="0.5" friction="5"/>
  </joint>
  <transmission name="l_hip_pitch_joint_tran">
    <type>transmission_interface/SimpleTransmission</type>
    <joint name="l_hip_pitch_joint">
      <hardwareInterface>hardware_interface/EffortJointInterface</hardwareInterface>
    </joint>
    <actuator name="l_hip_pitch_joint_motor">
      <hardwareInterface>EffortJointInterface</hardwareInterface>
      <mechanicalReduction>1</mechanicalReduction>
    </actuator>
  </transmission>
  <!-- left hip pitch link -->
  <link name="l_hip_pitch_link">
    <visual>
      <origin rpy="0 0 0" xyz="0 0 0"/>
      <geometry>
        <mesh filename="package://huron_description/meshes/l_hip_pitch_link.STL" scale="1 1 1"/>
      </geometry>
      <material name="grey"/>
    </visual>
    <collision>
      <origin rpy="0 0 0" xyz="0 0 0"/>
      <geometry>
        <mesh filename="package://huron_description/meshes/l_hip_pitch_link.STL" scale="1 1 1"/>
      </geometry>
      <material name="grey"/>
    </collision>
    <inertial>
      <origin rpy="0 0 0" xyz="0.26752 4.6211E-05 0.053152"/>
      <mass value="4.2544"/>
      <inertia ixx="0.0034527" ixy="-3.1056E-08" ixz="0.0019797" iyy="0.010032" iyz="-1.4618E-10" izz="0.01009"/>
    </inertial>
  </link>
  <!-- left knee pitch joint -->
  <joint name="l_knee_pitch_joint" type="revolute">
    <origin rpy="0 0 0" xyz="0.512778478308813 5.00027201116859E-05 1.66647320003488E-05"/>
    <parent link="l_hip_pitch_link"/>
    <child link="l_knee_pitch_link"/>
    <axis xyz="0 0 1"/>
    <limit effort="1000" lower="-1.570796327" upper="1.570796327" velocity="3"/>
    <dynamics damping="0.5" friction="5"/>
  </joint>
  <transmission name="l_knee_pitch_joint_tran">
    <type>transmission_interface/SimpleTransmission</type>
    <joint name="l_knee_pitch_joint">
      <hardwareInterface>hardware_interface/EffortJointInterface</hardwareInterface>
    </joint>
    <actuator name="l_knee_pitch_joint_motor">
      <hardwareInterface>EffortJointInterface</hardwareInterface>
      <mechanicalReduction>1</mechanicalReduction>
    </actuator>
  </transmission>
  <!-- left knee pitch link -->
  <link name="l_knee_pitch_link">
    <visual>
      <origin rpy="0 0 0" xyz="0 0 0"/>
      <geometry>
        <mesh filename="package://huron_description/meshes/l_knee_pitch_link.STL" scale="1 1 1"/>
      </geometry>
      <material name="grey"/>
    </visual>
    <collision>
      <origin rpy="0 0 0" xyz="0 0 0"/>
      <geometry>
        <mesh filename="package://huron_description/meshes/l_knee_pitch_link.STL" scale="1 1 1"/>
      </geometry>
      <material name="grey"/>
    </collision>
    <inertial>
      <origin rpy="0 0 0" xyz="0.13547 0.00068516 0.00486"/>
      <mass value="3.4875"/>
      <inertia ixx="0.0064814" ixy="1.2524E-05" ixz="-2.7966E-05" iyy="0.019762" iyz="1.0417E-05" izz="0.017354"/>
    </inertial>
  </link>
  <!-- left ankle pitch joint -->
  <joint name="l_ankle_pitch_joint" type="revolute">
    <origin rpy="0 0 0.0" xyz="0.3715 3.1633E-05 0.0025"/>
    <parent link="l_knee_pitch_link"/>
    <child link="l_ankle_pitch_link"/>
    <axis xyz="0 0 1"/>
    <limit effort="1000" lower="-0.5236" upper="0.1745" velocity="3"/>
    <dynamics damping="0.5" friction="2.0"/>
  </joint>
  <transmission name="l_ankle_pitch_joint_tran">
    <type>transmission_interface/SimpleTransmission</type>
    <joint name="l_ankle_pitch_joint">
      <hardwareInterface>hardware_interface/EffortJointInterface</hardwareInterface>
    </joint>
    <actuator name="l_ankle_pitch_joint_motor">
      <hardwareInterface>EffortJointInterface</hardwareInterface>
      <mechanicalReduction>1</mechanicalReduction>
    </actuator>
  </transmission>
  <!-- left ankle pitch link -->
  <link name="l_ankle_pitch_link">
    <visual>
      <origin rpy="0 0 0" xyz="0 0 0"/>
      <geometry>
        <mesh filename="package://huron_description/meshes/l_ankle_pitch_link.STL" scale="1 1 1"/>
      </geometry>
      <material name="">
        <color rgba="0.89804 0.91765 0.92941 1"/>
      </material>
    </visual>
    <collision>
      <origin rpy="0 0 0" xyz="0 0 0"/>
      <geometry>
        <mesh filename="package://huron_description/meshes/l_ankle_pitch_link.STL" scale="1 1 1"/>
      </geometry>
      <material name="">
        <color rgba="0.89804 0.91765 0.92941 1"/>
      </material>
    </collision>
    <inertial>
      <origin rpy="0 0 0" xyz="-0.029808 0.001045 3.1135E-08"/>
      <mass value="2.4242"/>
      <inertia ixx="0.0025143" ixy="-0.00025651" ixz="1.1633E-12" iyy="0.0045125" iyz="6.7196E-10" izz="0.0049235"/>
    </inertial>
  </link>
  <!-- left ankle roll pitch -->
  <joint name="l_ankle_roll_joint" type="revolute">
    <origin rpy="1.570796327 0 0" xyz="0 0 0"/>
    <parent link="l_ankle_pitch_link"/>
    <child link="l_ankle_roll_link"/>
    <axis xyz="0 0 1"/>
    <limit effort="1000" lower="-0.3491" upper="0.3491" velocity="3"/>
    <dynamics damping="0.5" friction="2.0"/>
  </joint>
  <transmission name="l_ankle_roll_joint_tran">
    <type>transmission_interface/SimpleTransmission</type>
    <joint name="l_ankle_roll_joint">
      <hardwareInterface>hardware_interface/EffortJointInterface</hardwareInterface>
    </joint>
    <actuator name="l_ankle_roll_joint_motor">
      <hardwareInterface>EffortJointInterface</hardwareInterface>
      <mechanicalReduction>1</mechanicalReduction>
    </actuator>
  </transmission>
  <!-- left ankle roll link -->
  <link name="l_ankle_roll_link">
    <visual>
      <origin rpy="0 0 0" xyz="0 0 0"/>
      <geometry>
        <mesh filename="package://huron_description/meshes/l_ankle_roll_link.STL" scale="1 1 1"/>
      </geometry>
      <material name="">
        <color rgba="0.77647 0.75686 0.73725 1"/>
      </material>
    </visual>
    <collision>
      <origin rpy="0 0 0" xyz="0 0 0"/>
      <geometry>
        <mesh filename="package://huron_description/meshes/l_ankle_roll_link.STL" scale="1 1 1"/>
      </geometry>
      <material name="">
        <color rgba="0.77647 0.75686 0.73725 1"/>
      </material>
    </collision>
    <inertial>
      <origin rpy="0 0 0" xyz="0.073422 -5.3261E-05 0.063946"/>
      <mass value="1.8533"/>
      <inertia ixx="0.008682" ixy="-1.0255E-05" ixz="0.00024351" iyy="0.0084057" iyz="0.00012332" izz="0.0013019"/>
    </inertial>
  </link>
  <!-- left ft fixed joint 1 -->
  <joint name="l1_ft_fixed" type="revolute">
    <origin rpy="-0.024938 0.00629 1.5706" xyz="0.098328 0.020682 0.12788"/>
    <axis xyz="0 0 1"/>
    <parent link="l_ankle_roll_link"/>
    <child link="l1_foot_ft_link"/>
    <limit effort="100" lower="0" upper="0" velocity="100"/>
  </joint>
  <!-- left foot ft link 1 -->
  <link name="l1_foot_ft_link">
    <visual>
      <origin rpy=" 0 0 0" xyz="0 0 0"/>
      <geometry>
        <mesh filename="package://huron_description/meshes/r_foot_ft.STL" scale="1 1 1"/>
      </geometry>
      <material name="green"/>
    </visual>
    <collision>
      <origin rpy=" 0 0 0" xyz="0 0 0"/>
      <geometry>
        <mesh filename="package://huron_description/meshes/r_foot_ft.STL" scale="1 1 1"/>
      </geometry>
      <material name="green"/>
    </collision>
    <inertial>
      <origin rpy="0 0 0" xyz="7.3272E-06 0.0048383 4.6103E-08"/>
      <mass value="0.0086322"/>
      <inertia ixx="3.8994E-07" ixy="2.9118E-10" ixz="2.9784E-10" iyy="5.8221E-07" iyz="1.8321E-12" izz="3.4261E-07"/>
    </inertial>
  </link>
  <!-- left ft fixed joint 2 -->
  <joint name="l2_ft_fixed" type="revolute">
    <origin rpy="-0.024938 0.00629 1.5706" xyz="0.098275 -0.014318 0.12788"/>
    <axis xyz="0 0 1"/>
    <parent link="l_ankle_roll_link"/>
    <child link="l2_foot_ft_link"/>
    <limit effort="100" lower="0" upper="0" velocity="100"/>
  </joint>
  <!-- left foot ft link 2 -->
  <link name="l2_foot_ft_link">
    <visual>
      <origin rpy=" 0 0 0" xyz="0 0 0"/>
      <geometry>
        <mesh filename="package://huron_description/meshes/r_foot_ft.STL" scale="1 1 1"/>
      </geometry>
      <material name="green"/>
    </visual>
    <collision>
      <origin rpy=" 0 0 0" xyz="0 0 0"/>
      <geometry>
        <mesh filename="package://huron_description/meshes/r_foot_ft.STL" scale="1 1 1"/>
      </geometry>
      <material name="green"/>
    </collision>
    <inertial>
      <origin rpy="0 0 0" xyz="7.32716003928879E-06 0.00483832570565201 4.61026197218217E-08"/>
      <mass value="0.00863223621815312"/>
      <inertia ixx="3.89940334430996E-07" ixy="2.91176476412897E-10" ixz="2.9783895900032E-10" iyy="5.82213619517231E-07" iyz="1.83208753538184E-12" izz="3.4260620679022E-07"/>
    </inertial>
  </link>
  <!-- left ft fixed joint 3 -->
  <joint name="l3_ft_fixed" type="revolute">
    <origin rpy="-0.024938 0.00629 1.5706" xyz="0.098272 -0.016649 0"/>
    <axis xyz="0 0 1"/>
    <parent link="l_ankle_roll_link"/>
    <child link="l3_foot_ft_link"/>
    <limit effort="100" lower="0" upper="0" velocity="100"/>
  </joint>
  <!-- left foot ft link 3 -->
  <link name="l3_foot_ft_link">
    <visual>
      <origin rpy=" 0 0 0" xyz="0 0 0"/>
      <geometry>
        <mesh filename="package://huron_description/meshes/r_foot_ft.STL" scale="1 1 1"/>
      </geometry>
      <material name="green"/>
    </visual>
    <collision>
      <origin rpy=" 0 0 0" xyz="0 0 0"/>
      <geometry>
        <mesh filename="package://huron_description/meshes/r_foot_ft.STL" scale="1 1 1"/>
      </geometry>
      <material name="green"/>
    </collision>
    <inertial>
      <origin rpy="0 0 0" xyz="7.32716003956635E-06 0.00483832570565224 4.61026188336433E-08"/>
      <mass value="0.00863223621815312"/>
      <inertia ixx="3.89940334430996E-07" ixy="2.9117647641293E-10" ixz="2.97838959000262E-10" iyy="5.82213619517231E-07" iyz="1.83208753540344E-12" izz="3.4260620679022E-07"/>
    </inertial>
  </link>
  <!-- left ft fixed joint 4 -->
  <joint name="l4_ft_fixed" type="revolute">
    <origin rpy="-0.024938 0.00629 1.5706" xyz="0.098322 0.01686 0"/>
    <axis xyz="0 0 1"/>
    <parent link="l_ankle_roll_link"/>
    <child link="l4_foot_ft_link"/>
    <limit effort="100" lower="0" upper="0" velocity="100"/>
  </joint>
  <!-- left foot ft link 4 -->
  <link name="l4_foot_ft_link">
    <visual>
      <origin rpy=" 0 0 0" xyz="0 0 0"/>
      <geometry>
        <mesh filename="package://huron_description/meshes/r_foot_ft.STL" scale="1 1 1"/>
      </geometry>
      <material name="green"/>
    </visual>
    <collision>
      <origin rpy=" 0 0 0" xyz="0 0 0"/>
      <geometry>
        <mesh filename="package://huron_description/meshes/r_foot_ft.STL" scale="1 1 1"/>
      </geometry>
      <material name="green"/>
    </collision>
    <inertial>
      <origin rpy="0 0 0" xyz="7.32716003670753E-06 0.00483832570565246 4.61026209985782E-08"/>
      <mass value="0.00863223621815312"/>
      <inertia ixx="3.89940334430996E-07" ixy="2.91176476412812E-10" ixz="2.97838959000613E-10" iyy="5.82213619517231E-07" iyz="1.83208753537968E-12" izz="3.42606206790219E-07"/>
    </inertial>
  </link>
  <!-- left ft fixed joint -->
  <joint name="lv_ft_fixed" type="fixed">
    <origin rpy="0 -1.570796327 0" xyz="0.045 0.0 0.0"/>
    <parent link="l4_foot_ft_link"/>
    <child link="l_foot_v_ft_link"/>
  </joint>
  <!-- left foot ft link -->
  <link name="l_foot_v_ft_link"/>
  <!-- Foot base -->
  <link name="l_foot_base_link">
    <visual>
      <origin rpy="0 0 0" xyz="0 0 0"/>
      <geometry>
        <box size="0.078 0.005 0.221"/>
      </geometry>
      <material name="green"/>
    </visual>
    <collision>
      <origin rpy="0 0 0" xyz="0 0 0"/>
      <geometry>
        <box size="0.078 0.005 0.221"/>
      </geometry>
      <material name="green"/>
    </collision>
    <inertial>
      <origin rpy="0 0 0" xyz="0 0 0"/>
      <mass value="0.01"/>
      <inertia ixx="2.162166667E-05" ixy="0" ixz="0" iyy="2.545416667E-05" iyz="0" izz="3.874166667E-06"/>
    </inertial>
  </link>
  <joint name="l_foot_base_fixed" type="fixed">
    <origin rpy="0 0 0" xyz="-0.0175 -0.0025 -0.06395"/>
    <parent link="l1_foot_ft_link"/>
    <child link="l_foot_base_link"/>
  </joint>
</robot>
